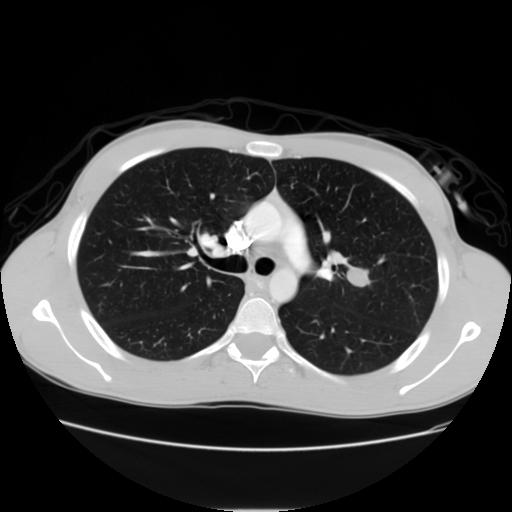nodule: (344, 264, 370, 290)
